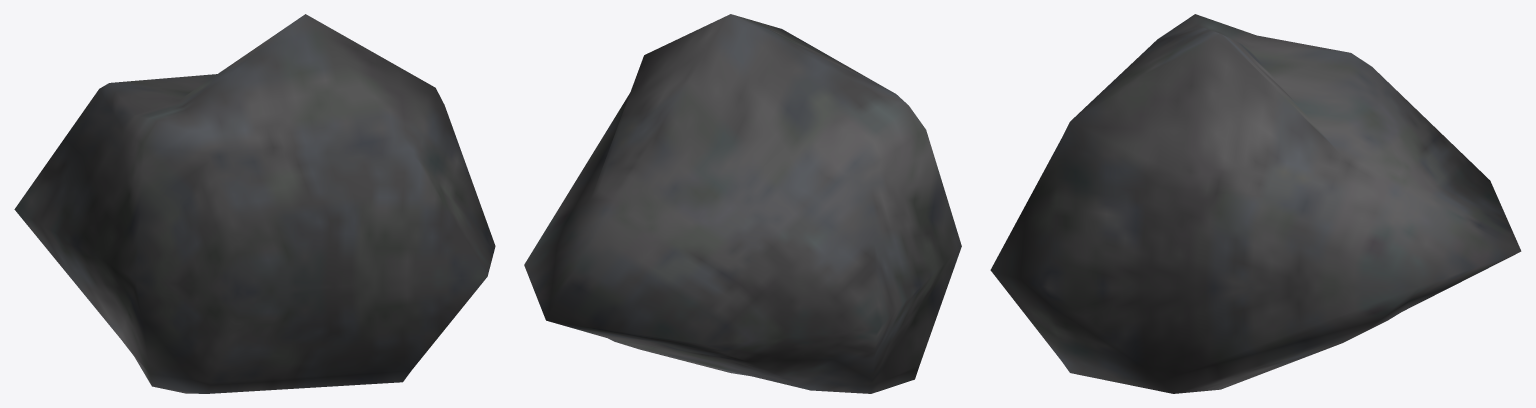
The model's file is detail_mesh_1.fbx.
The picture shows the model from 3 angles, left to right: view 1: azimuth 30°, elevation 25°; view 2: azimuth 150°, elevation 25°; view 3: azimuth 270°, elevation 25°; orthographic projection. The views are drawn at different scales.
Parts seen in each view (by area): view 1: envPrfRock_detailstoneB_highland_detail; view 2: envPrfRock_detailstoneB_highland_detail; view 3: envPrfRock_detailstoneB_highland_detail.
Boxes of the visible parts, x1,y1,x2,y2 form: envPrfRock_detailstoneB_highland_detail: (14, 14, 495, 393); envPrfRock_detailstoneB_highland_detail: (524, 14, 961, 393); envPrfRock_detailstoneB_highland_detail: (990, 14, 1521, 393).
Size of the model in its own units: 0.6202 by 0.6325 by 0.8555.
